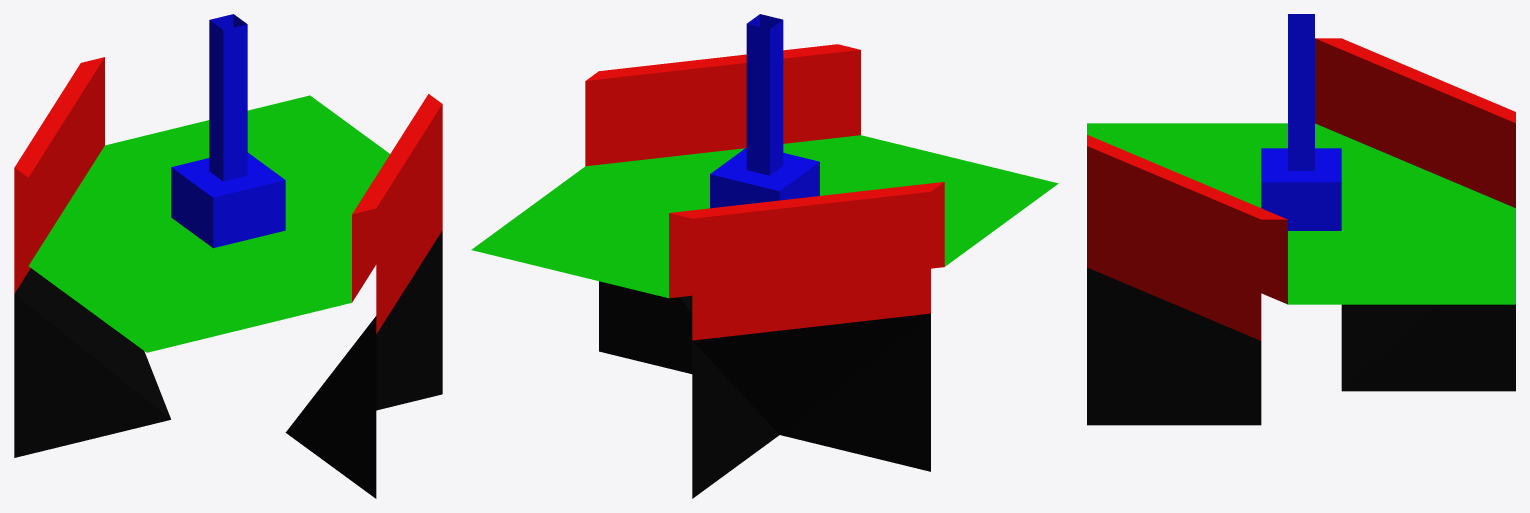
The model's file is None_W_E_E_E_E_W_E_E_BigStrut.fbx.
3 views of the same model, side by side, from view 1: azimuth 30°, elevation 25°; view 2: azimuth 150°, elevation 25°; view 3: azimuth 270°, elevation 25° (orthographic). The views are drawn at different scales.
Parts seen in each view (by area): view 1: None_W_E_E_E_E_W_E_E_BigStrut; view 2: None_W_E_E_E_E_W_E_E_BigStrut; view 3: None_W_E_E_E_E_W_E_E_BigStrut.
Part boxes in pixels (<box>): None_W_E_E_E_E_W_E_E_BigStrut: <box>14,14,442,498</box>; None_W_E_E_E_E_W_E_E_BigStrut: <box>471,14,1058,498</box>; None_W_E_E_E_E_W_E_E_BigStrut: <box>1087,14,1515,425</box>.
Bounding box in the file's own units: 100 × 100 × 100.
